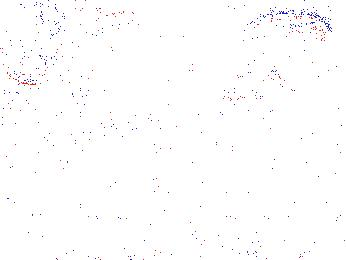moon jellyfish: (67, 12, 172, 126), (219, 13, 332, 103), (26, 1, 103, 53), (1, 19, 56, 86)
